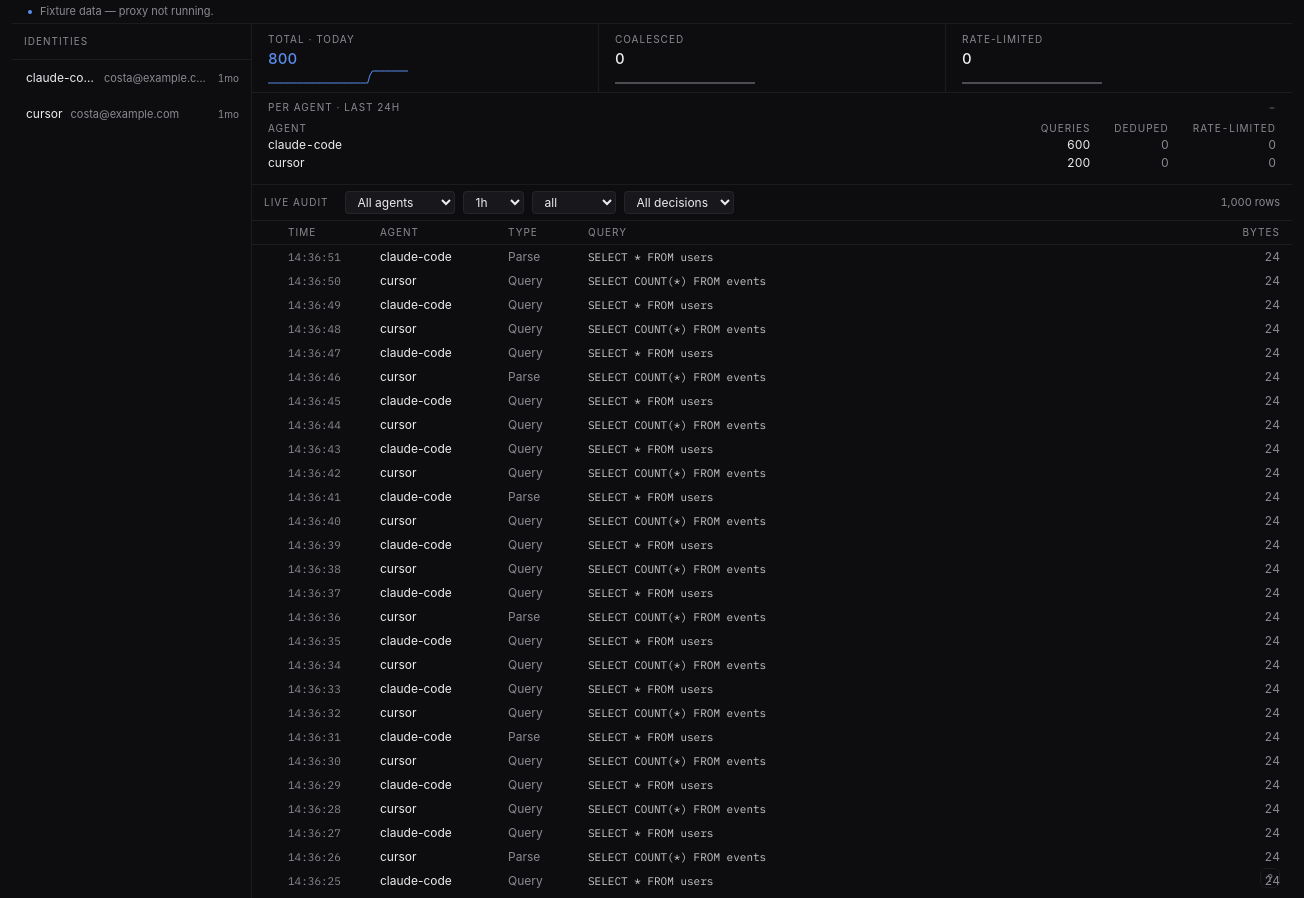
Test case: ProxyPane › filters by msg_type client-side without re-querying Tauri
This screenshot has width=1304, height=898.
Check: the text "1,000 rows" is shown, box [1220,194,1280,211]
// Order of selects in the toolbar: agent, time, msg_type, decision.
Select "Parse" in the 3rd dropdown at (574,202), box [532,191,616,214]
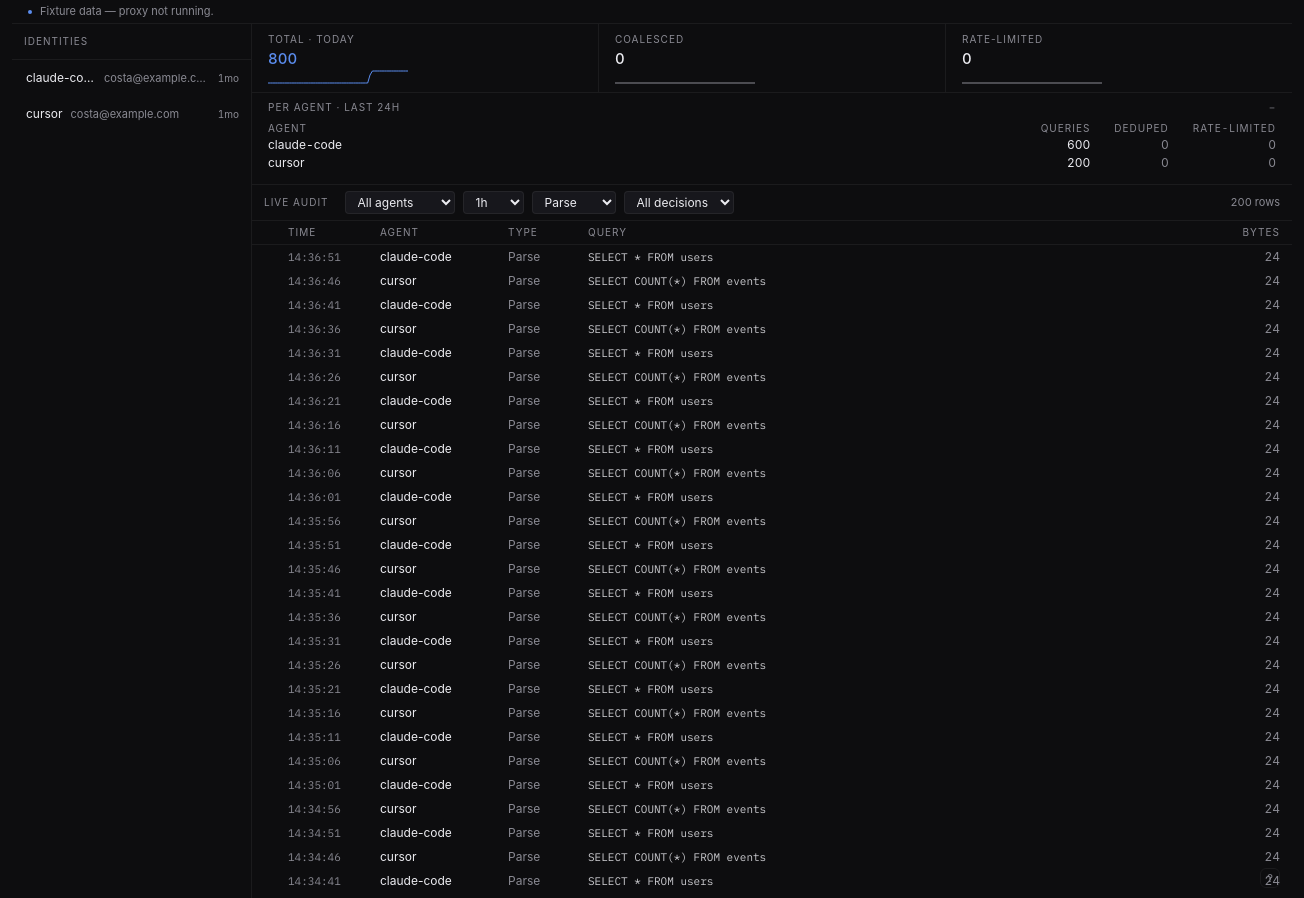
Check: the text "200 rows" is shown, box [1230,194,1280,211]
